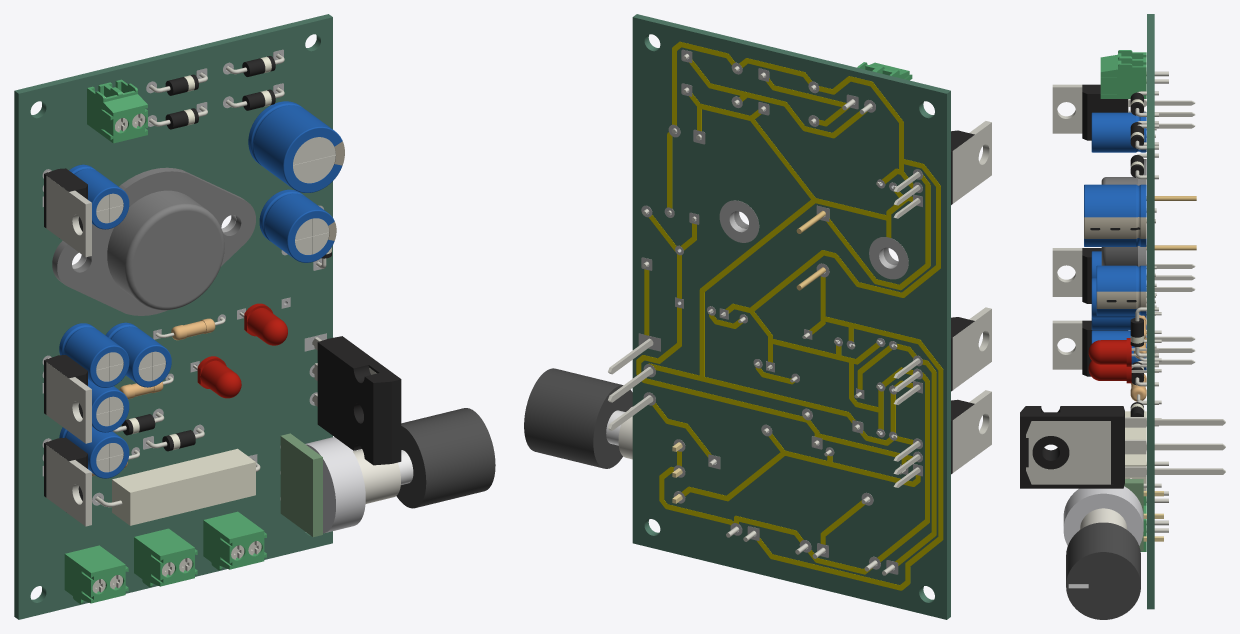
The model's file is power-supply-edge-pot.glb.
The picture shows the model from 3 angles, left to right: view 1: azimuth 30°, elevation 25°; view 2: azimuth 150°, elevation 25°; view 3: azimuth 270°, elevation 25°; orthographic projection. The views are drawn at different scales.
Visible parts, largest first — view 1: =>[0:1:1:38], =>[0:1:1:29], =>[0:1:1:23] (×4), =>[0:1:1:7] (×5), =>[0:1:1:3] (×3), =>[0:1:1:5], =>[0:1:1:15], =>[0:1:1:33], =>[0:1:1:31], =>[0:1:1:21], =>[0:1:1:11], =>[0:1:1:12] (+5 smaller); view 2: =>[0:1:1:38], =>[0:1:1:36], =>[0:1:1:3] (×3), =>[0:1:1:37], =>[0:1:1:15], =>[0:1:1:5], =>[0:1:1:29], =>[0:1:1:23]; view 3: =>[0:1:1:5], =>[0:1:1:3] (×3), =>[0:1:1:15], =>[0:1:1:38], =>[0:1:1:31], =>[0:1:1:7] (×4), =>[0:1:1:12], =>[0:1:1:21], =>[0:1:1:23] (×2), =>[0:1:1:9] (×5), =>[0:1:1:25] (×2), =>[0:1:1:29] (+4 smaller).
Part boxes in pixels (x1,y1,x2,y2): =>[0:1:1:38]: (14, 14, 332, 619); =>[0:1:1:29]: (52, 167, 255, 315); =>[0:1:1:23] (×4): (64, 79, 266, 603); =>[0:1:1:7] (×5): (59, 164, 171, 478); =>[0:1:1:3] (×3): (44, 168, 91, 526); =>[0:1:1:5]: (312, 336, 401, 465); =>[0:1:1:15]: (396, 408, 495, 508); =>[0:1:1:33]: (95, 448, 260, 525); =>[0:1:1:31]: (248, 101, 344, 192); =>[0:1:1:21]: (259, 189, 336, 262); =>[0:1:1:11]: (280, 433, 322, 537); =>[0:1:1:12]: (305, 437, 365, 533); =>[0:1:1:38]: (632, 14, 950, 619); =>[0:1:1:36]: (636, 41, 943, 590); =>[0:1:1:3] (×3): (893, 121, 991, 487); =>[0:1:1:37]: (638, 49, 922, 574); =>[0:1:1:15]: (524, 368, 632, 468); =>[0:1:1:5]: (608, 338, 653, 430); =>[0:1:1:29]: (734, 210, 898, 290); =>[0:1:1:23]: (842, 62, 912, 114); =>[0:1:1:5]: (1020, 406, 1225, 488); =>[0:1:1:3] (×3): (1052, 84, 1195, 376); =>[0:1:1:15]: (1066, 522, 1140, 619); =>[0:1:1:38]: (1147, 14, 1154, 609); =>[0:1:1:31]: (1084, 184, 1156, 246); =>[0:1:1:7] (×4): (1091, 112, 1156, 370); =>[0:1:1:12]: (1063, 486, 1143, 545); =>[0:1:1:21]: (1096, 265, 1156, 315); =>[0:1:1:23] (×2): (1100, 50, 1168, 551); =>[0:1:1:9] (×5): (1130, 91, 1158, 386); =>[0:1:1:25] (×2): (1088, 338, 1158, 383); =>[0:1:1:29]: (1101, 159, 1196, 266).
Bounding box in the file's own units: 0.0872 × 0.1016 × 0.0411.
